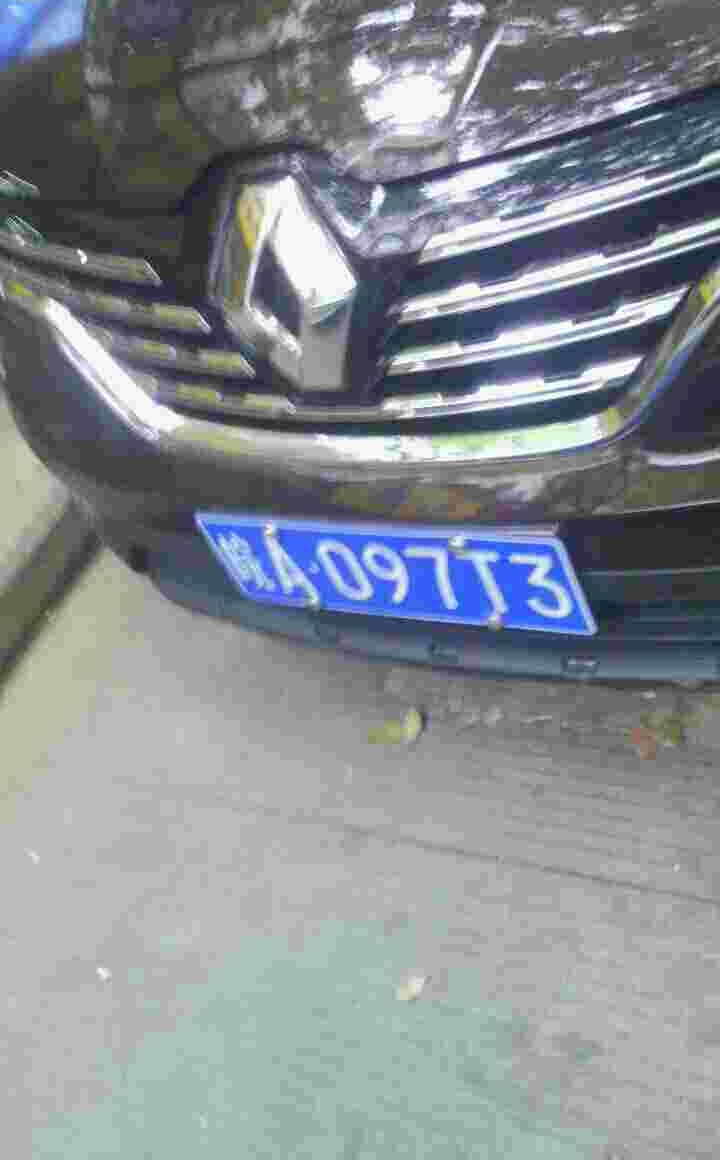license_plate: (199, 521, 585, 632)
